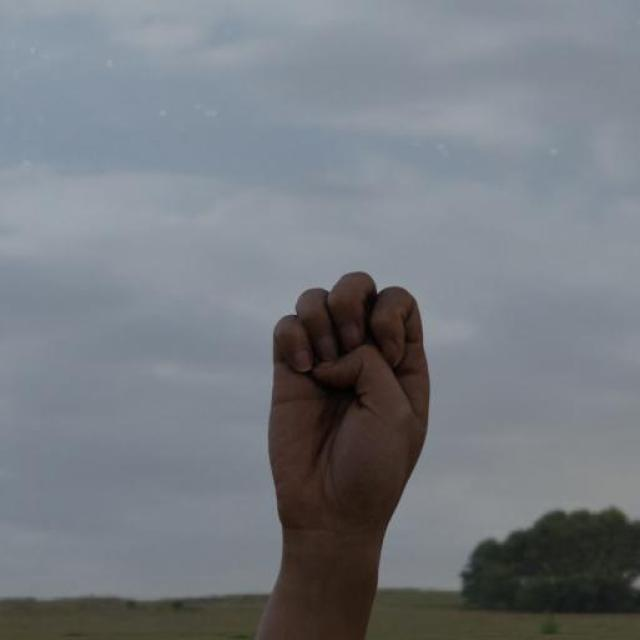E: (266, 263, 437, 562)
